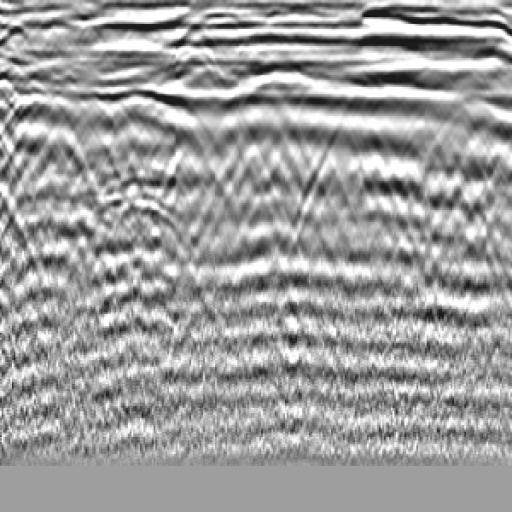non-metallic: (1, 56, 230, 325)
